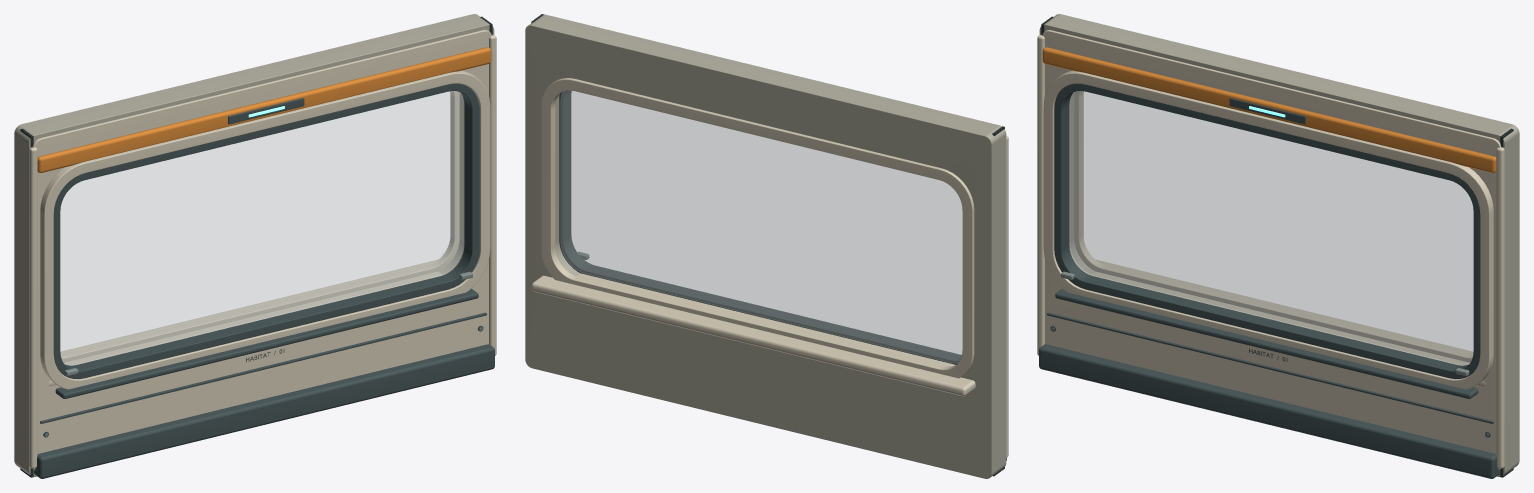
Rendered from wall-panorama-4m.glb.
3 views of the same model, side by side, from view 1: azimuth 30°, elevation 25°; view 2: azimuth 150°, elevation 25°; view 3: azimuth 330°, elevation 25° (orthographic).
Parts seen in each view (by area): view 1: wall-panorama-4m / 07 • smoked teal glass, wall-panorama-4m / 01 • warm porcelain paint, wall-panorama-4m / 06 • dark anodized frame, wall-panorama-4m / 02 • inner shell, wall-panorama-4m / 03 • ochre enamel; view 2: wall-panorama-4m / 02 • inner shell, wall-panorama-4m / 07 • smoked teal glass, wall-panorama-4m / 01 • warm porcelain paint, wall-panorama-4m / 06 • dark anodized frame; view 3: wall-panorama-4m / 07 • smoked teal glass, wall-panorama-4m / 01 • warm porcelain paint, wall-panorama-4m / 06 • dark anodized frame, wall-panorama-4m / 02 • inner shell, wall-panorama-4m / 03 • ochre enamel.
Part boxes in pixels (x1,y1,x2,y2): wall-panorama-4m / 07 • smoked teal glass: [60, 91, 463, 365]; wall-panorama-4m / 01 • warm porcelain paint: [29, 30, 496, 470]; wall-panorama-4m / 06 • dark anodized frame: [34, 83, 494, 478]; wall-panorama-4m / 02 • inner shell: [14, 14, 494, 476]; wall-panorama-4m / 03 • ochre enamel: [37, 47, 491, 172]; wall-panorama-4m / 02 • inner shell: [525, 14, 1006, 478]; wall-panorama-4m / 07 • smoked teal glass: [560, 91, 962, 363]; wall-panorama-4m / 01 • warm porcelain paint: [531, 78, 1008, 457]; wall-panorama-4m / 06 • dark anodized frame: [559, 90, 1006, 460]; wall-panorama-4m / 07 • smoked teal glass: [1070, 91, 1473, 365]; wall-panorama-4m / 01 • warm porcelain paint: [1037, 30, 1504, 470]; wall-panorama-4m / 06 • dark anodized frame: [1039, 83, 1499, 478]; wall-panorama-4m / 02 • inner shell: [1039, 14, 1519, 476]; wall-panorama-4m / 03 • ochre enamel: [1042, 47, 1496, 172].
Bounding box in the file's own units: 3.99 × 2.8 × 0.525.
